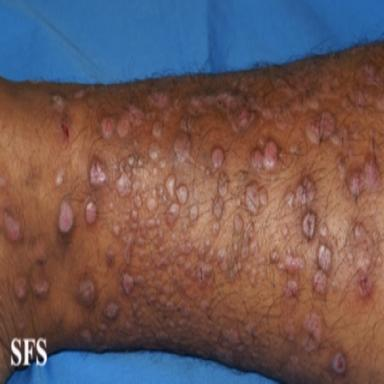Epidermolysis-Bullosa-Pruriginosa: (73, 157, 268, 371), (149, 78, 319, 132), (348, 154, 379, 197), (165, 175, 189, 224), (307, 112, 341, 145), (50, 90, 70, 144), (313, 243, 331, 296), (270, 247, 305, 274), (286, 178, 315, 207), (117, 106, 144, 136), (212, 173, 229, 220), (302, 312, 322, 351), (252, 141, 278, 169), (245, 183, 267, 213), (359, 64, 384, 87), (4, 211, 21, 242), (173, 133, 191, 162), (89, 159, 107, 187), (32, 268, 49, 297), (59, 202, 73, 233), (79, 279, 95, 306), (302, 211, 316, 240), (331, 352, 346, 375), (103, 299, 119, 320), (359, 275, 373, 298), (283, 278, 299, 298), (13, 278, 27, 298), (211, 148, 224, 169), (85, 202, 97, 224), (336, 154, 346, 179), (101, 118, 113, 138), (149, 142, 160, 161), (284, 322, 295, 340), (189, 203, 199, 221), (152, 121, 161, 137), (55, 170, 63, 185), (107, 250, 114, 265), (355, 225, 362, 240), (74, 89, 85, 98), (319, 225, 327, 237), (212, 222, 219, 235), (290, 355, 299, 365), (282, 225, 288, 238)
